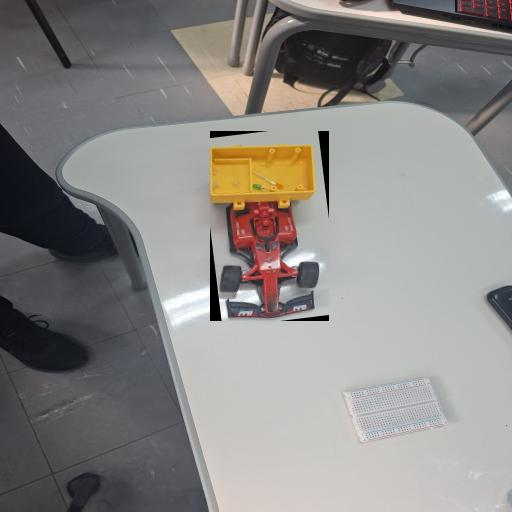carro: (210, 138, 324, 321)
